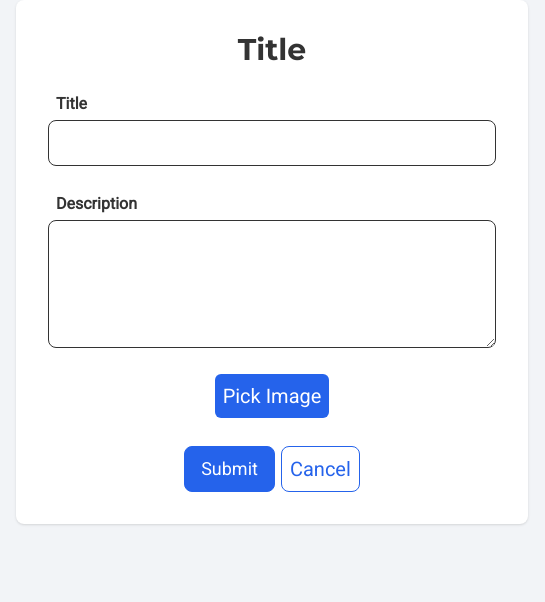
Scenario: Post From › Does not send request with empty fields and renders errors
Click the button "Submit" at (230, 469), box [184,446,275,492]
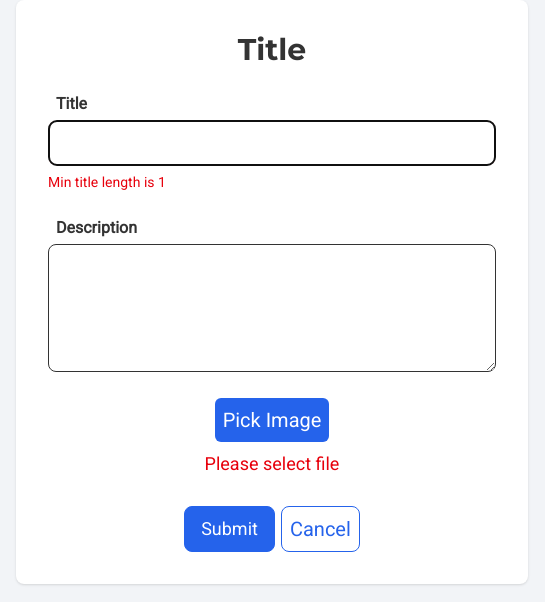
Now the text "Min title length is 1" is shown, box [48,172,166,192]
Now the text "Please select file" is shown, box [205,450,339,478]
